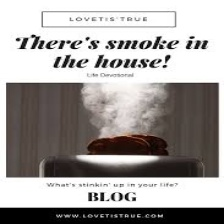smoke: (83, 82, 167, 130)
